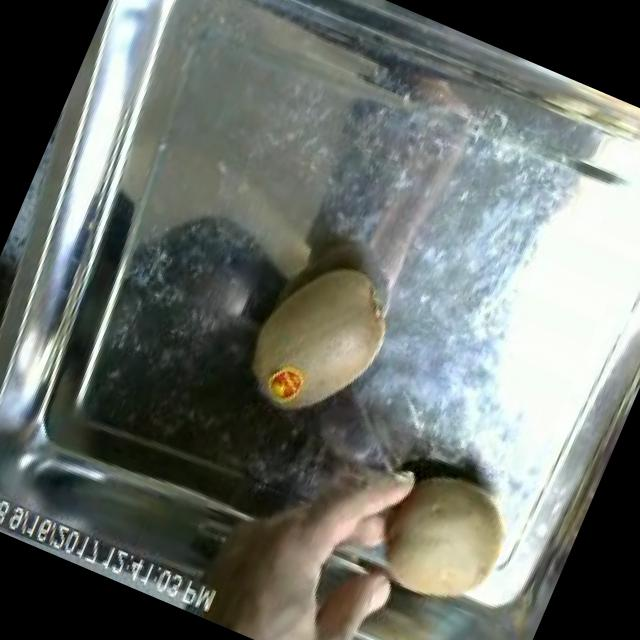Fruit: (220, 231, 416, 445), (351, 437, 546, 638)
